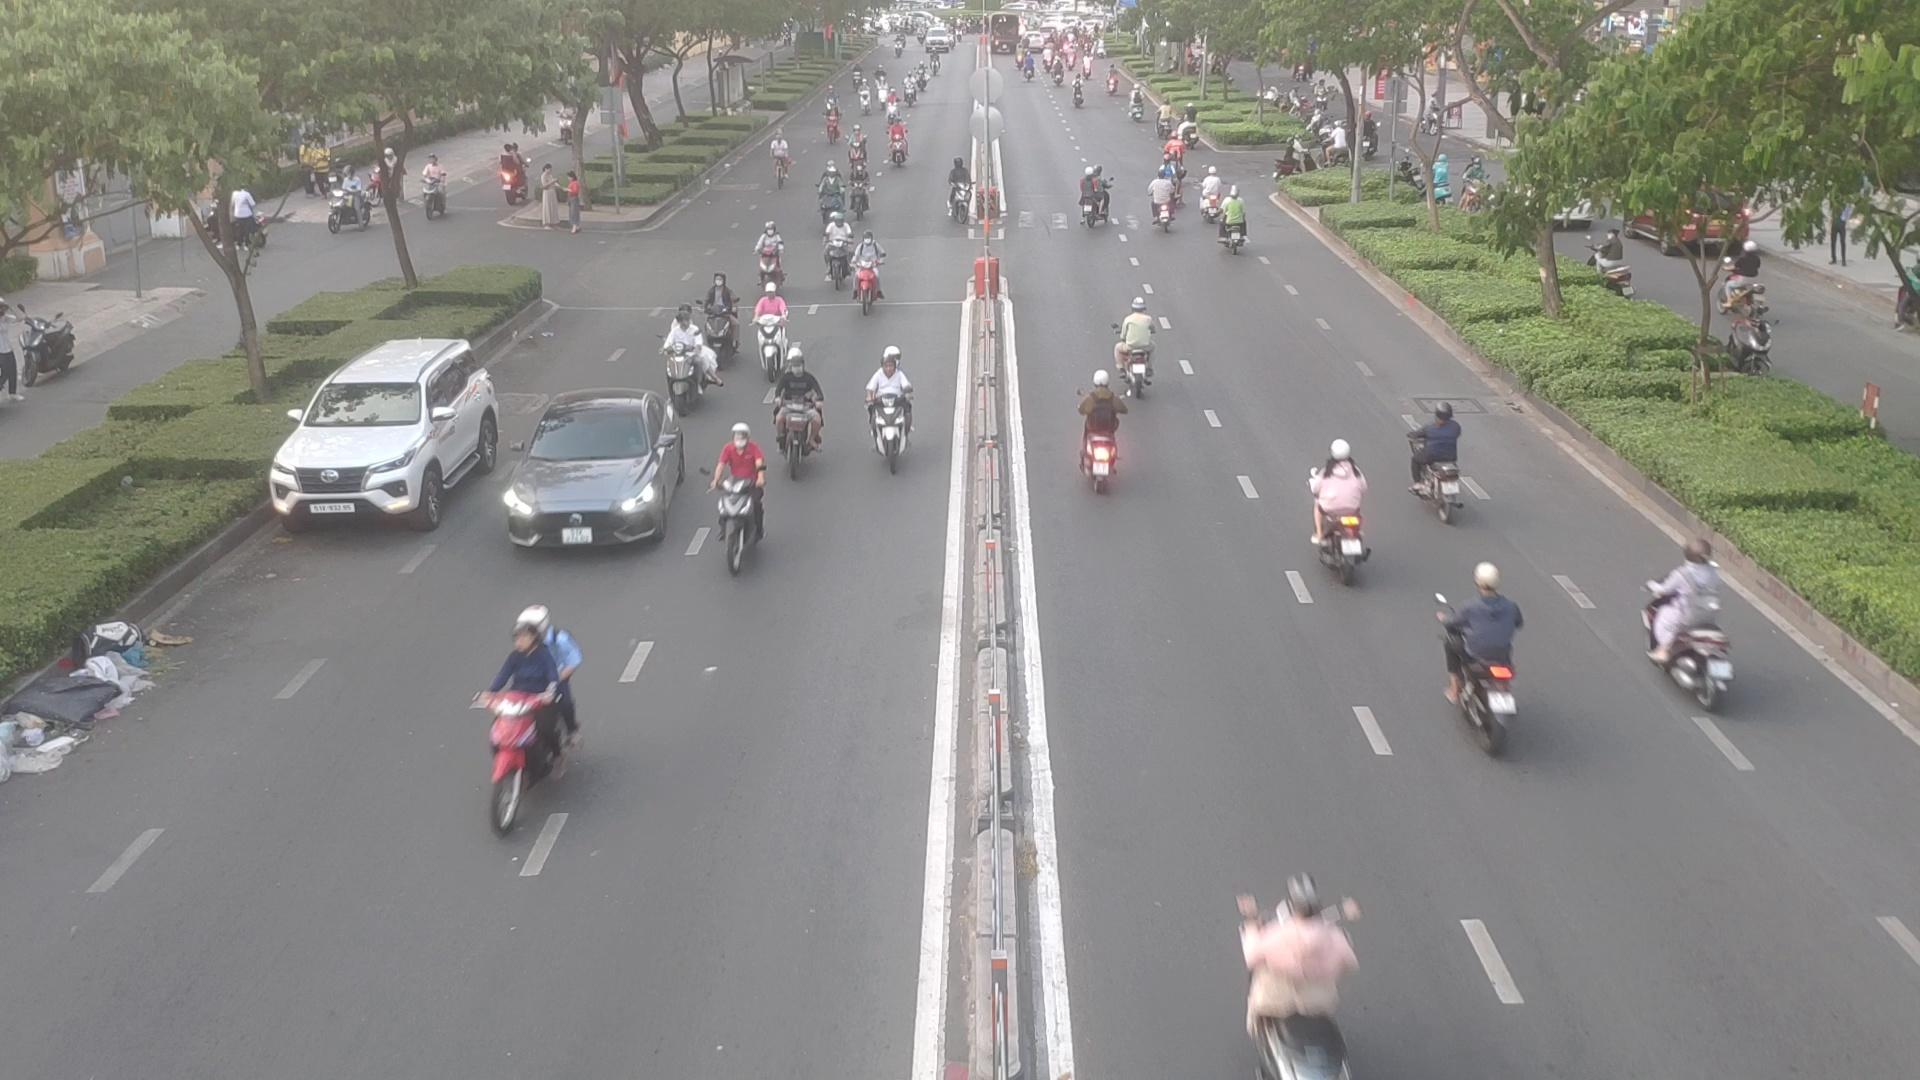car: (272, 338, 516, 531), (502, 394, 692, 553)
motorbike: (1236, 877, 1382, 1077), (456, 612, 582, 823), (1437, 571, 1534, 746), (1648, 553, 1747, 709), (1302, 447, 1374, 571), (711, 425, 769, 562), (1067, 375, 1130, 492), (1407, 394, 1473, 506), (858, 355, 919, 472), (777, 364, 835, 472), (1106, 305, 1166, 396), (658, 322, 716, 409), (695, 276, 744, 357), (847, 229, 891, 315), (748, 287, 785, 375), (1072, 167, 1114, 229), (753, 224, 790, 294), (1217, 195, 1257, 256), (815, 167, 856, 222), (825, 211, 851, 291), (944, 156, 973, 222), (849, 164, 881, 222), (1147, 167, 1171, 229), (882, 121, 913, 167), (1195, 169, 1218, 224), (848, 127, 866, 167), (827, 105, 843, 144)
